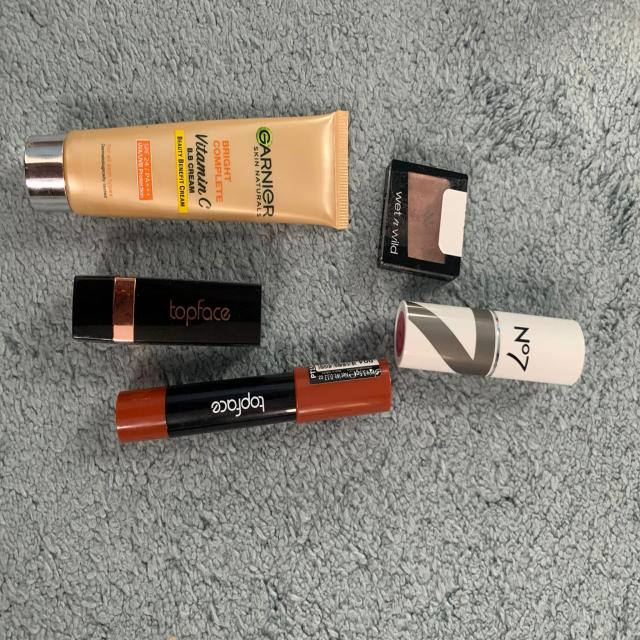bb cream: (9, 103, 365, 252)
highlighter: (372, 148, 472, 278)
lip liner: (107, 366, 409, 436)
lip stick: (390, 294, 591, 396), (60, 268, 274, 358)
